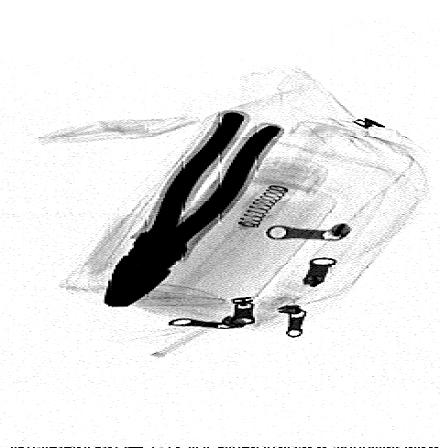Pliers: (102, 113, 282, 309)
